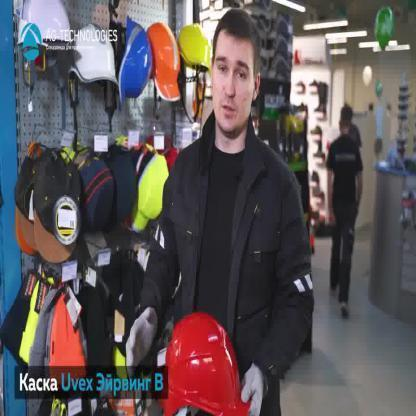gloves: (125, 304, 158, 380), (239, 357, 267, 415)
helmet: (161, 311, 255, 415), (13, 0, 78, 59), (116, 15, 154, 112), (67, 20, 120, 86), (147, 21, 181, 102), (178, 22, 211, 73)
